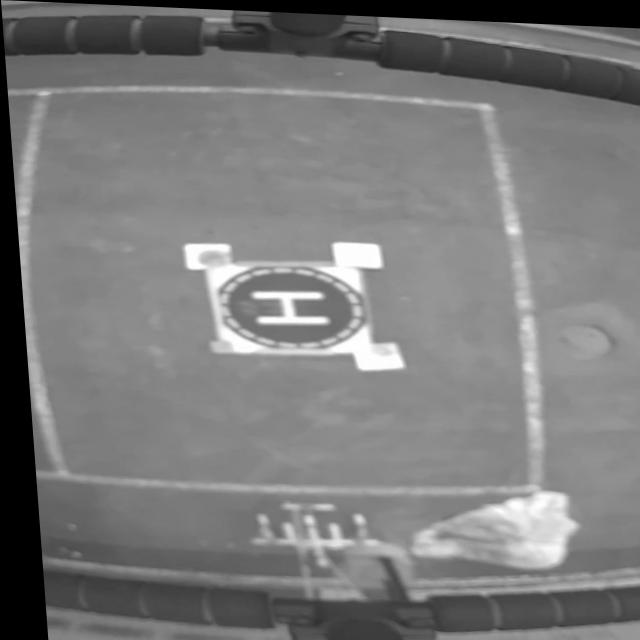Helipad: (247, 289, 320, 323)
